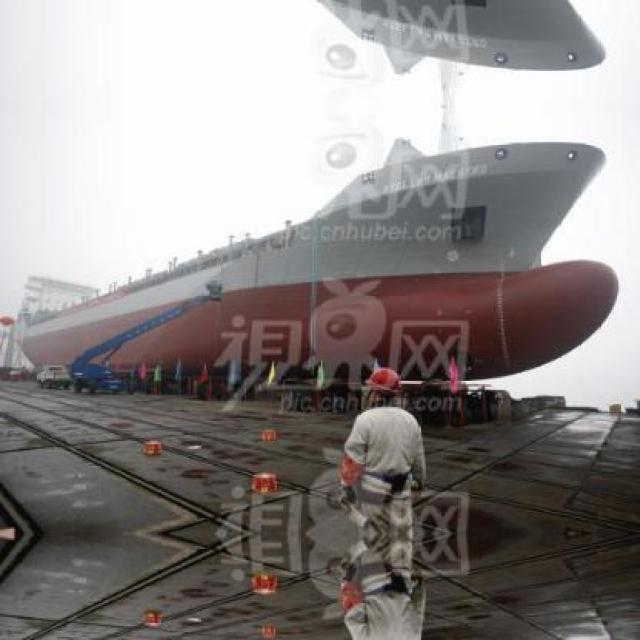helmet: (364, 363, 399, 403)
